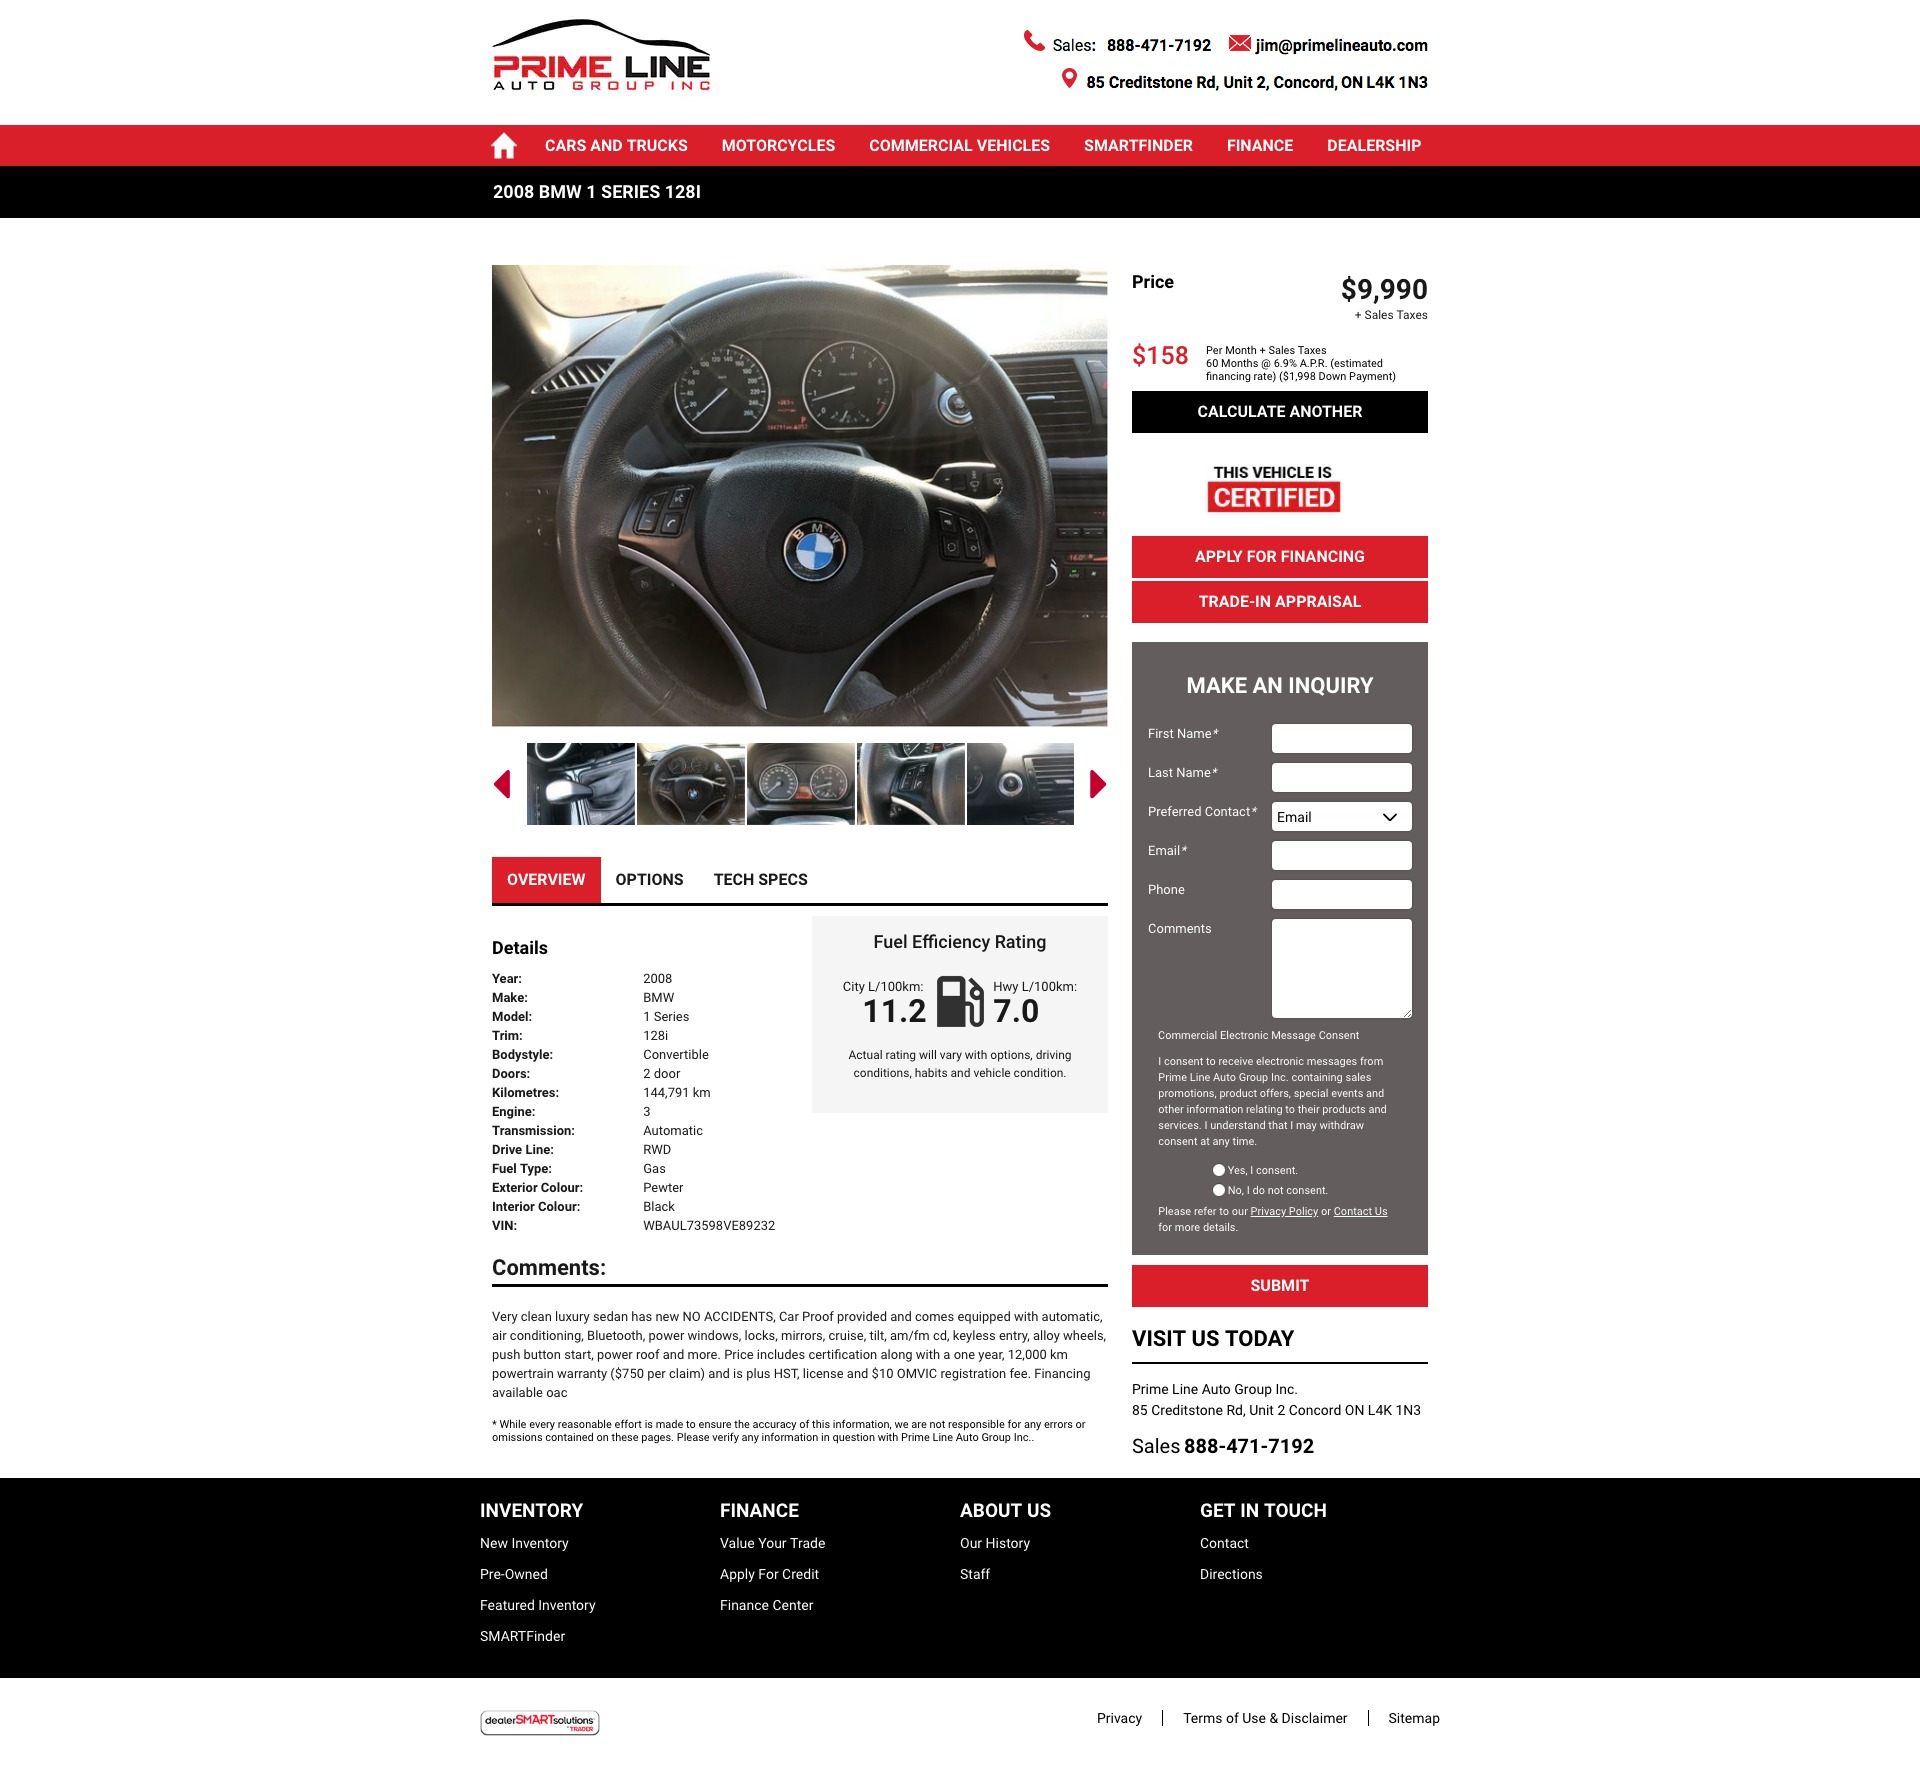car: (1090, 770, 1108, 800)
